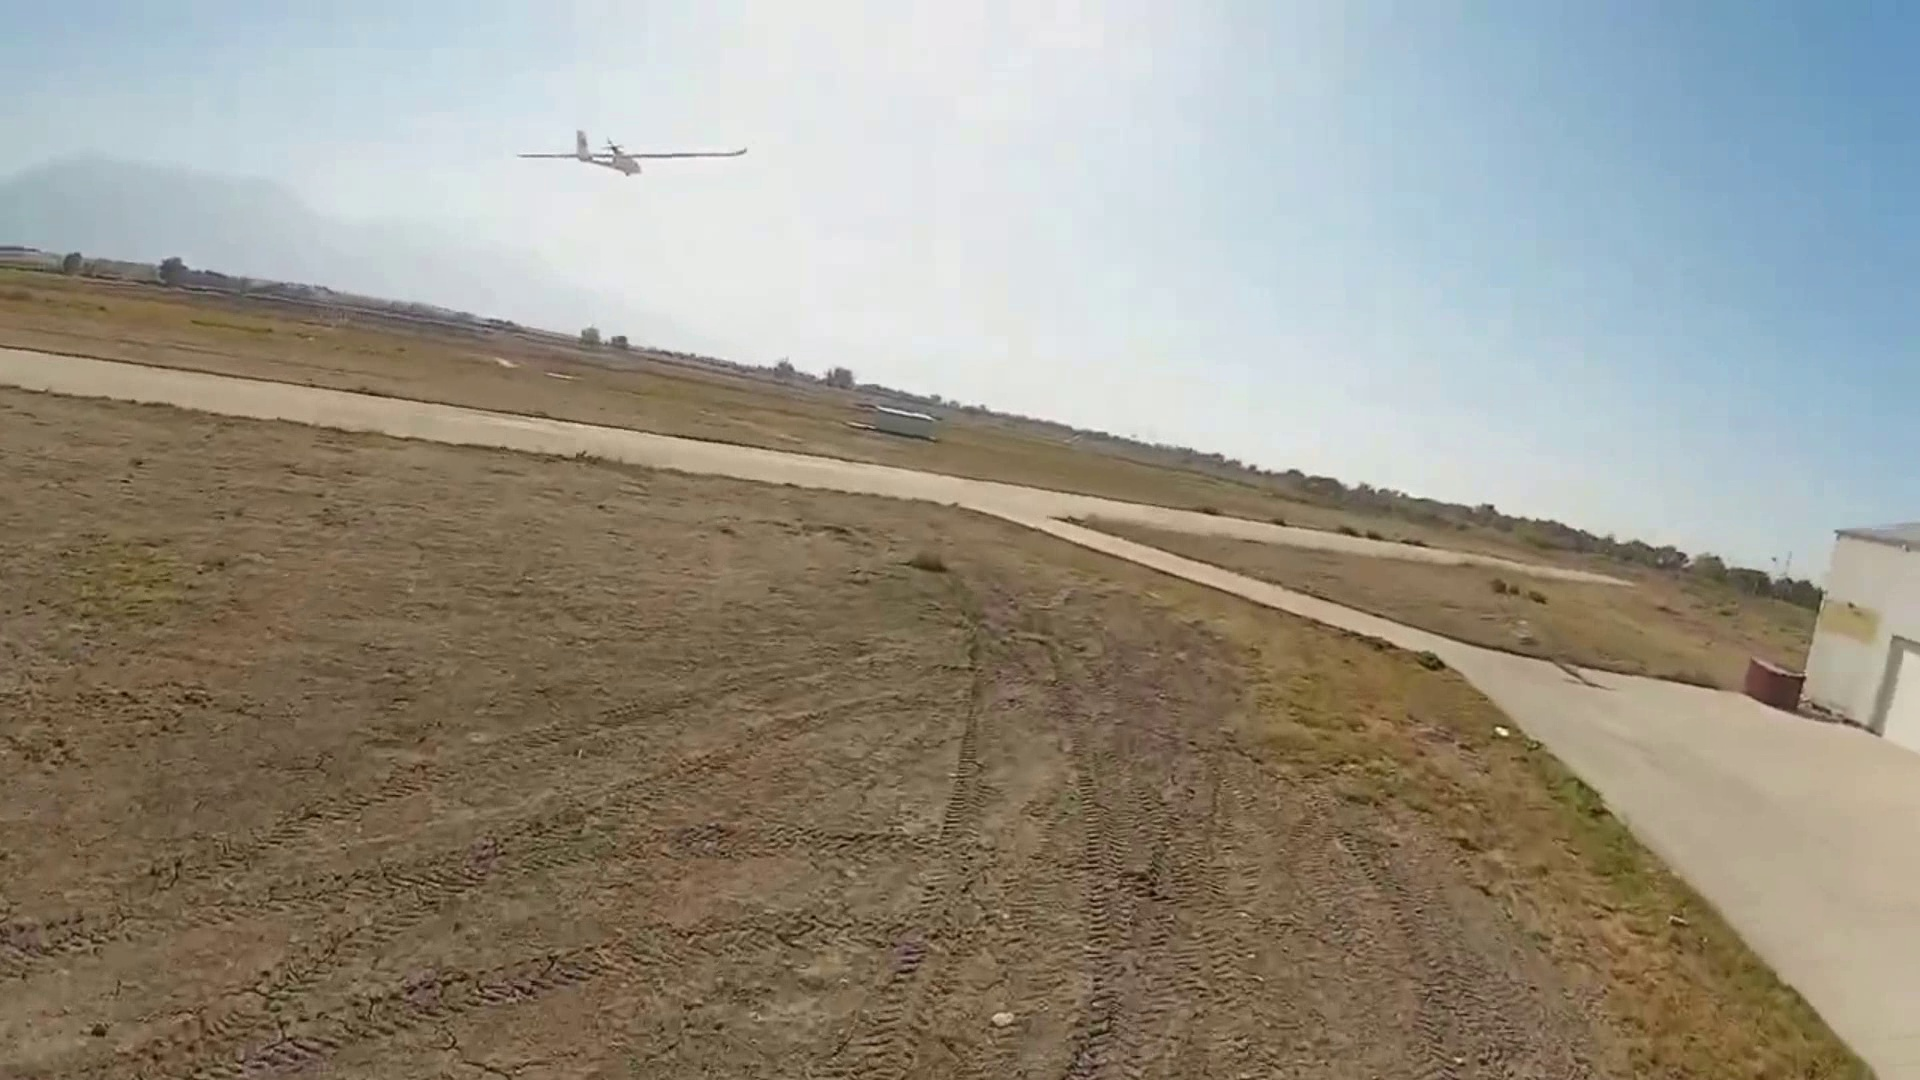airplane: (514, 126, 749, 177)
